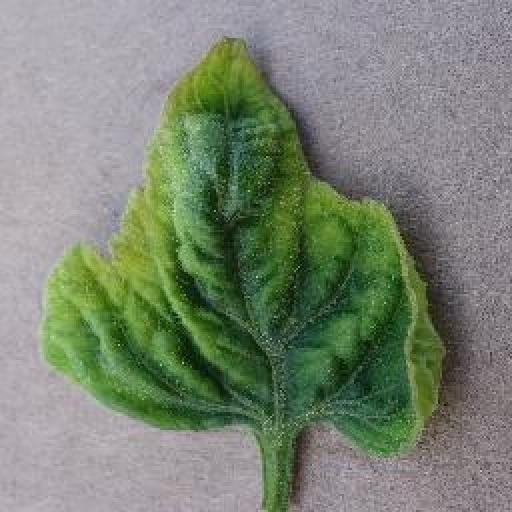Yellow Leaf Curl Virus: (40, 36, 446, 460)
